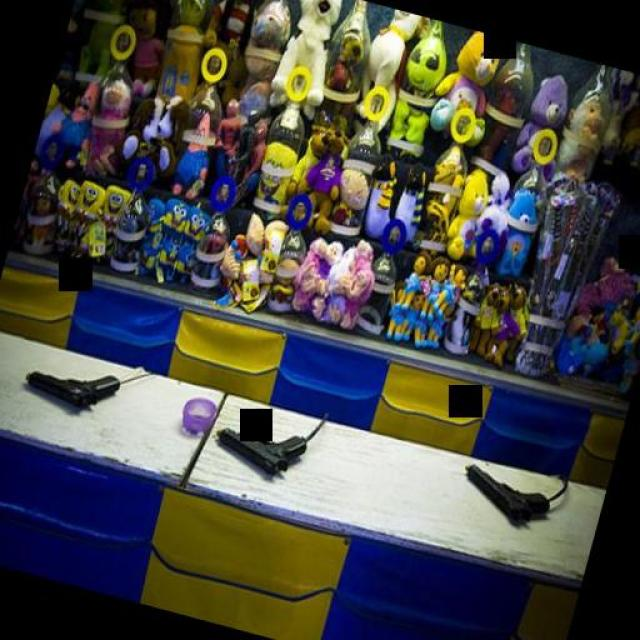gun: (201, 402, 311, 486), (452, 458, 558, 536), (18, 348, 122, 420)
